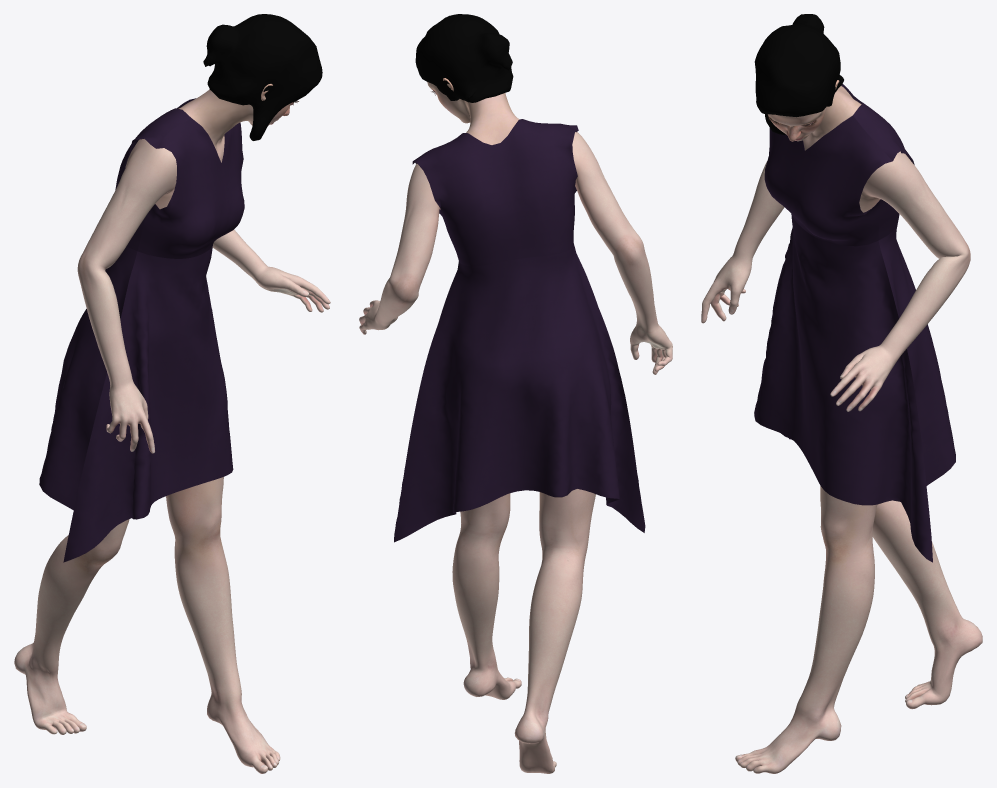
The model's file is random.obj.
3 renders of one model, left to right at view 1: azimuth 30°, elevation 25°; view 2: azimuth 150°, elevation 25°; view 3: azimuth 270°, elevation 25°, orthographic. The views are drawn at different scales.
Size of the model in its own units: 703 by 1739 by 590.
